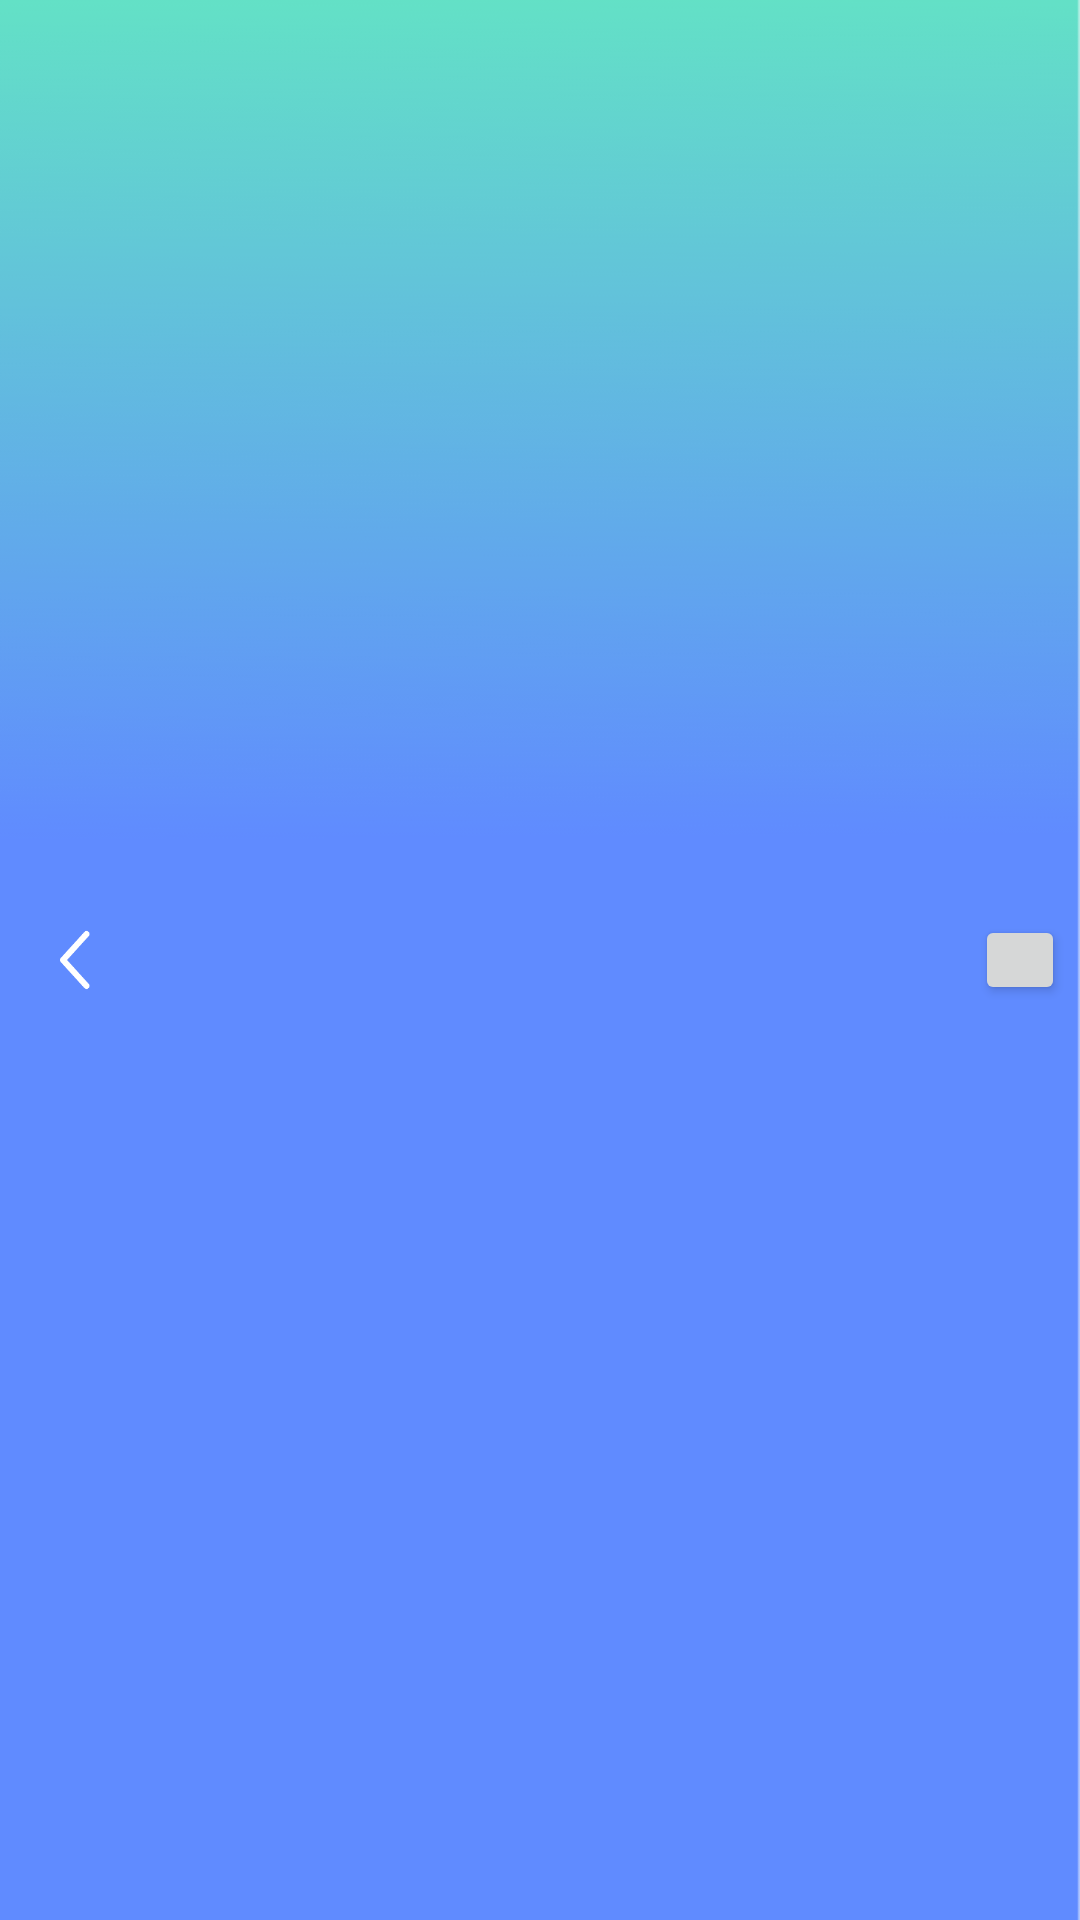

Named icons in this screenshot (1080×1920) and their centers, [x,y]:
left: [75,960]
